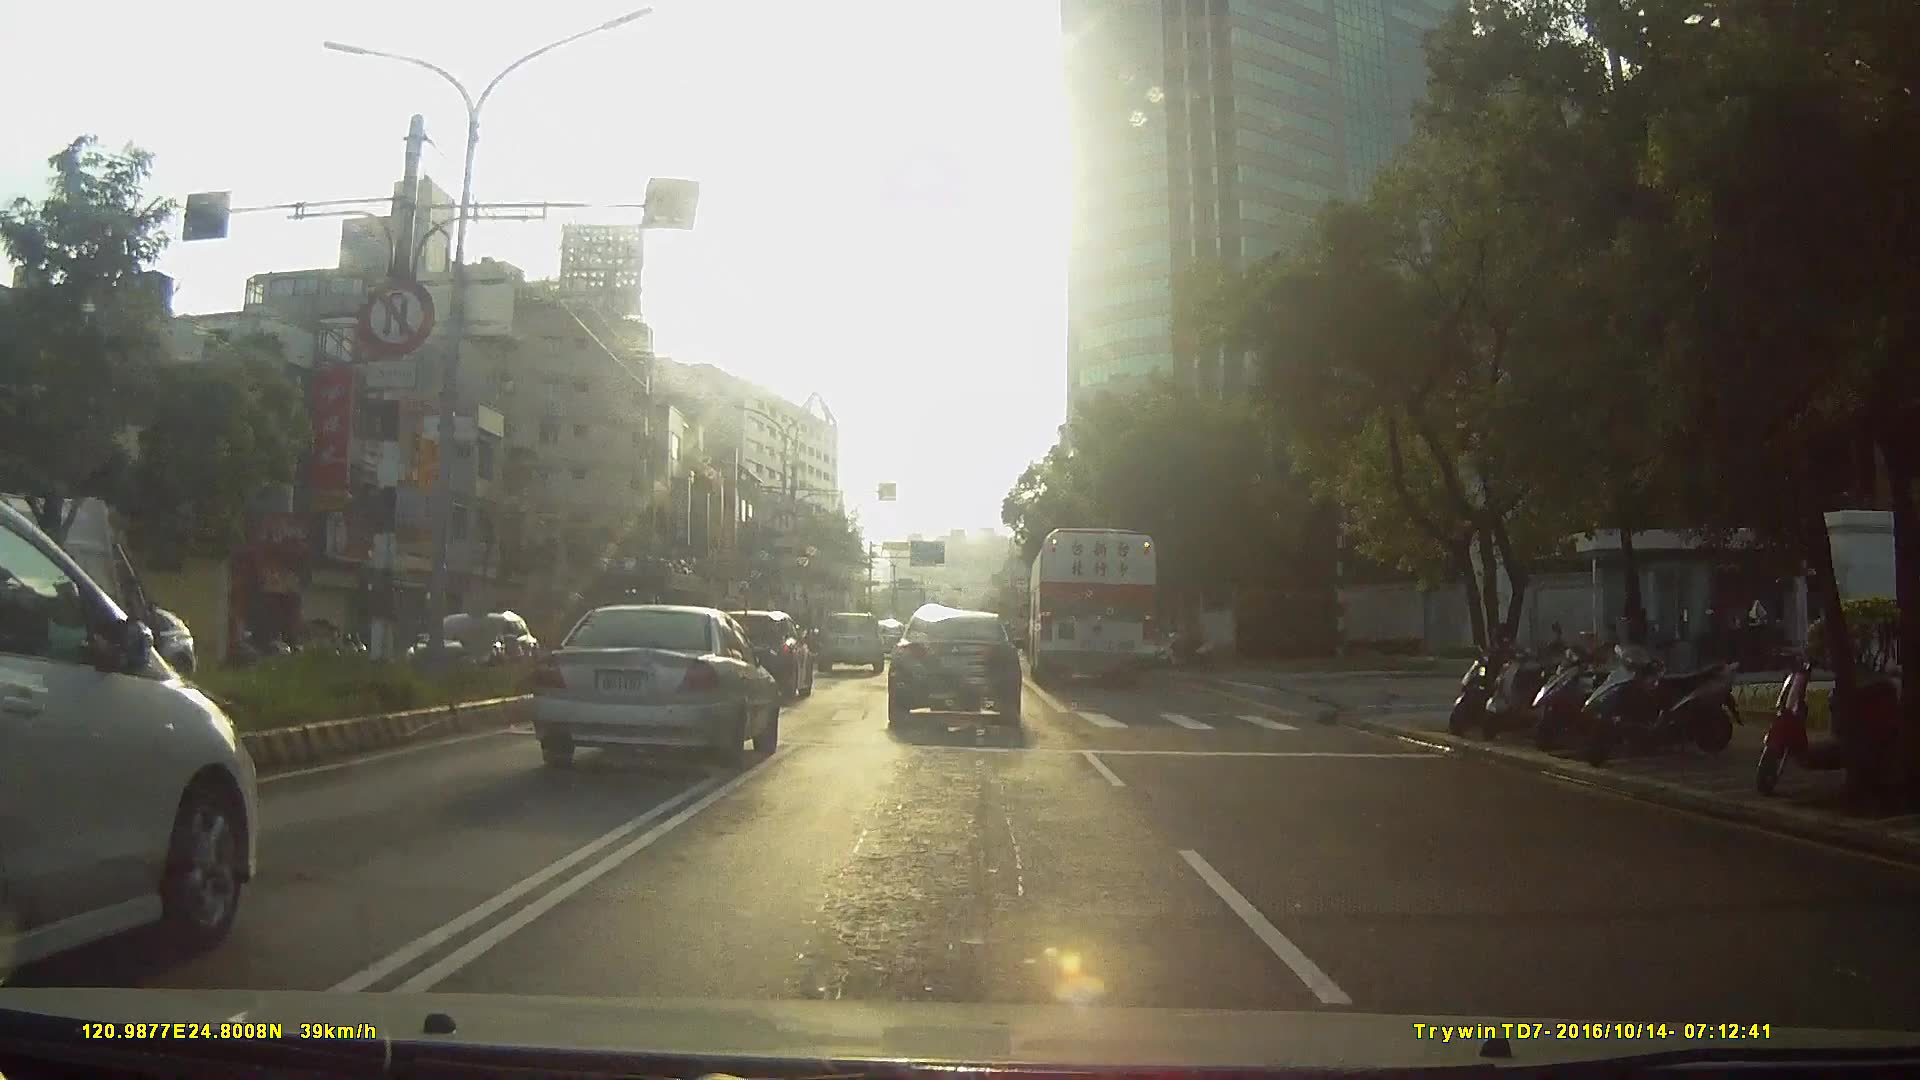vehicle: (1, 477, 285, 985), (251, 556, 684, 868), (520, 601, 777, 775), (1026, 521, 1163, 691), (887, 605, 1025, 713), (397, 607, 553, 686), (818, 608, 885, 675)
